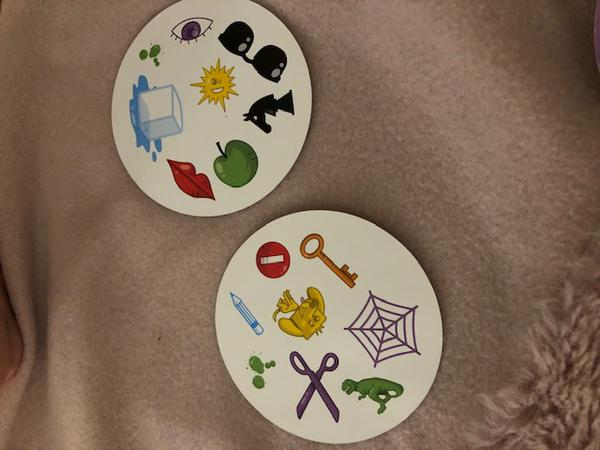bouche: (164, 150, 216, 203)
cheval: (239, 87, 297, 137)
chien: (270, 285, 328, 341)
ciseau: (286, 350, 341, 424)
cle: (296, 229, 360, 290)
crayon: (227, 288, 263, 340)
dinosore: (339, 371, 406, 416)
glacon: (125, 72, 188, 163)
lunette: (215, 20, 288, 85)
oeuil: (166, 11, 217, 50)
pomme: (214, 136, 262, 191)
sens_interdit: (251, 239, 295, 284)
soleil: (188, 55, 240, 114)
tache: (241, 349, 276, 393), (133, 35, 169, 74)
toile: (343, 290, 420, 365)
